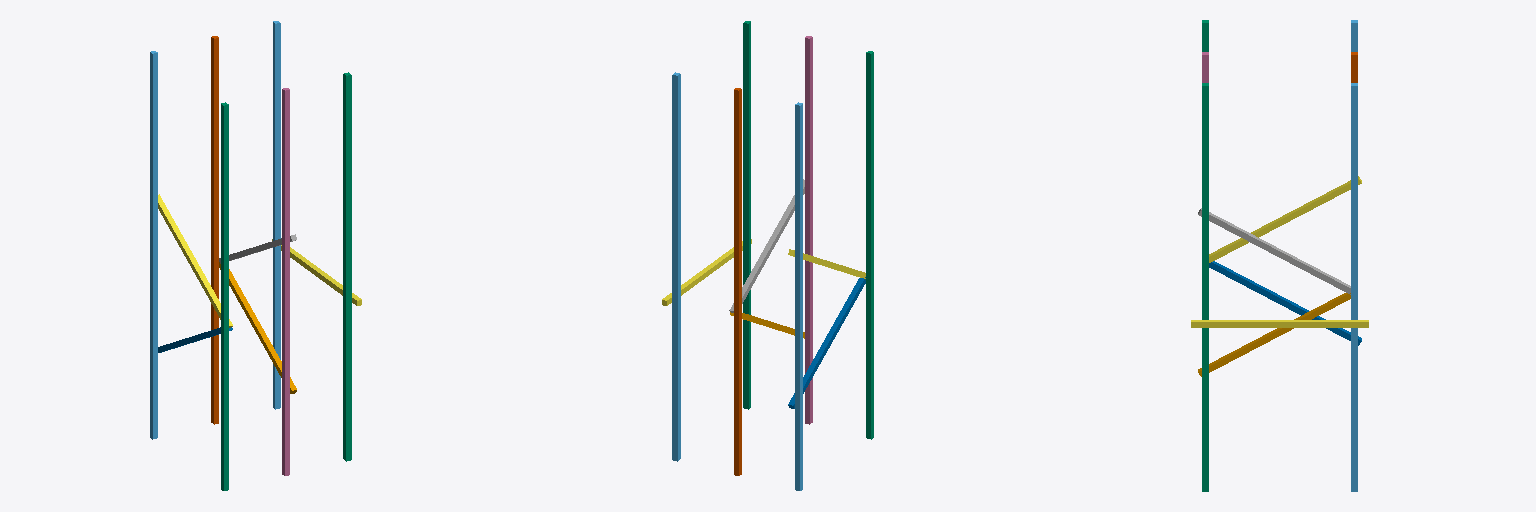
robot.urdf — gates:
<robot name="gates">
   <material name="Brown">
     <color rgba="83./255. 53./255. 10./255."/>
   </material>
   <material name="White">
     <color rgba="1 1 1"/>
   </material>
   <material name="Grey">
     <color rgba=".3 .3 .3"/>
   </material>
   <material name="Red">
     <color rgba="1 0 0"/>
   </material>
   <link name="world"/>

   <link name="v1">
   	<inertial>
   		<mass value=".5" />
   		<origin xyz="0 0 1.5" rpy="0 0 0"/>
		  <inertia ixx="10"  ixy="0"  ixz="0" iyy="10" iyz="0" izz="1" />
   	</inertial>
  	<visual>
      <origin xyz="0 0 1.5" rpy="0 0 0" />
      <geometry>
        <box size="0.042 0.042 3"/>
      </geometry>
      <material name="White"/>
    </visual>
    <collision>
      <origin xyz="0 0 1.5" rpy="0 0 0" />
      <geometry>
        <box size="0.042 0.042 3"/>
      </geometry>
    </collision>
   </link>
   <joint name="v1_weld" type="fixed">
    <parent link="world"/>
      <child link="v1"/>
    <origin xyz="-.5 .5 0" rpy="0 0 0" />
   </joint>
   <link name="v2">
   	<inertial>
   		<mass value=".5" />
   		<origin xyz="0 0 1.5" rpy="0 0 0"/>
		  <inertia ixx="10"  ixy="0"  ixz="0" iyy="10" iyz="0" izz="1" />
   	</inertial>
  	<visual>
      <origin xyz="0 0 1.5" rpy="0 0 0" />
      <geometry>
        <box size="0.042 0.042 3"/>
      </geometry>
      <material name="White"/>
    </visual>
    <collision>
      <origin xyz="0 0 1.5" rpy="0 0 0" />
      <geometry>
        <box size="0.042 0.042 3"/>
      </geometry>
    </collision>
   </link>
   <joint name="v2_weld" type="fixed">
    <parent link="world"/>
      <child link="v2"/>
    <origin xyz="-.5 -.5 0" rpy="0 0 0" />
   </joint>
   <link name="d1">
   	<inertial>
   		<mass value=".5" />
   		<origin xyz="0 0 .6" rpy="0 0 0"/>
		  <inertia ixx="5"  ixy="0"  ixz="0" iyy="5" iyz="0" izz="1" />
   	</inertial>
  	<visual>
      <origin xyz="0 0 0.6" rpy="0 0 0" />
      <geometry>
        <box size="0.042 0.042 1.2"/>
      </geometry>
      <material name="White"/>
    </visual>
    <collision>
      <origin xyz="0 0 0.6" rpy="0 0 0" />
      <geometry>
        <box size="0.042 0.042 1.2"/>
      </geometry>
    </collision>
   </link>
   <joint name="d1_weld" type="fixed">
    <parent link="v2"/>
      <child link="d1"/>
    <origin xyz="0.042 0 1.25" rpy="-1.047197551196598 0 0" />
   </joint>
   <link name="d2">
   	<inertial>
   		<mass value=".5" />
   		<origin xyz="0 0 .6" rpy="0 0 0"/>
		  <inertia ixx="5"  ixy="0"  ixz="0" iyy="5" iyz="0" izz="1" />
   	</inertial>
  	<visual>
      <origin xyz="0 0 0.6" rpy="0 0 0" />
      <geometry>
        <box size="0.042 0.042 1.2"/>
      </geometry>
      <material name="White"/>
    </visual>
    <collision>
      <origin xyz="0 0 0.6" rpy="0 0 0" />
      <geometry>
        <box size="0.042 0.042 1.2"/>
      </geometry>
    </collision>
   </link>
   <joint name="d2_weld" type="fixed">
    <parent link="v2"/>
      <child link="d2"/>
    <origin xyz="0.042 0 1.25" rpy="-2.094395102393196 0 0" />
   </joint>

   <link name="v3">
   	<inertial>
   		<mass value=".5" />
   		<origin xyz="0 0 1.5" rpy="0 0 0"/>
		  <inertia ixx="10"  ixy="0"  ixz="0" iyy="10" iyz="0" izz="1" />
   	</inertial>
  	<visual>
      <origin xyz="0 0 1.5" rpy="0 0 0" />
      <geometry>
        <box size="0.042 0.042 3"/>
      </geometry>
      <material name="White"/>
    </visual>
    <collision>
      <origin xyz="0 0 1.5" rpy="0 0 0" />
      <geometry>
        <box size="0.042 0.042 3"/>
      </geometry>
    </collision>
   </link>
   <joint name="v3_weld" type="fixed">
    <parent link="world"/>
      <child link="v3"/>
    <origin xyz="0 .5 0" rpy="0 0 0" />
   </joint>
   <link name="v4">
   	<inertial>
   		<mass value=".5" />
   		<origin xyz="0 0 1.5" rpy="0 0 0"/>
		  <inertia ixx="10"  ixy="0"  ixz="0" iyy="10" iyz="0" izz="1" />
   	</inertial>
  	<visual>
      <origin xyz="0 0 1.5" rpy="0 0 0" />
      <geometry>
        <box size="0.042 0.042 3"/>
      </geometry>
      <material name="White"/>
    </visual>
    <collision>
      <origin xyz="0 0 1.5" rpy="0 0 0" />
      <geometry>
        <box size="0.042 0.042 3"/>
      </geometry>
    </collision>
   </link>
   <joint name="v4_weld" type="fixed">
    <parent link="world"/>
      <child link="v4"/>
    <origin xyz="0 -.5 0" rpy="0 0 0" />
   </joint>
  <link name="d3">
   	<inertial>
   		<mass value=".5" />
   		<origin xyz="0 0 .6" rpy="0 0 0"/>
		  <inertia ixx="5"  ixy="0"  ixz="0" iyy="5" iyz="0" izz="1" />
   	</inertial>
  	<visual>
      <origin xyz="0 0 0.6" rpy="0 0 0" />
      <geometry>
        <box size="0.042 0.042 1.2"/>
      </geometry>
      <material name="White"/>
    </visual>
    <collision>
      <origin xyz="0 0 0.6" rpy="0 0 0" />
      <geometry>
        <box size="0.042 0.042 1.2"/>
      </geometry>
    </collision>
   </link>
   <joint name="d3_weld" type="fixed">
    <parent link="v3"/>
      <child link="d3"/>
    <origin xyz="0.042 0 1.25" rpy="1.047197551196598 0 0" />
   </joint>
  <link name="d4">
   	<inertial>
   		<mass value=".5" />
   		<origin xyz="0 0 .6" rpy="0 0 0"/>
		  <inertia ixx="5"  ixy="0"  ixz="0" iyy="5" iyz="0" izz="1" />
   	</inertial>
  	<visual>
      <origin xyz="0 0 0.6" rpy="0 0 0" />
      <geometry>
        <box size="0.042 0.042 1.2"/>
      </geometry>
      <material name="White"/>
    </visual>
    <collision>
      <origin xyz="0 0 0.6" rpy="0 0 0" />
      <geometry>
        <box size="0.042 0.042 1.2"/>
      </geometry>
    </collision>
   </link>
   <joint name="d4_weld" type="fixed">
    <parent link="v3"/>
      <child link="d4"/>
    <origin xyz="0.042 0 1.25" rpy="2.094395102393196 0 0" />
   </joint>

   <link name="v5">
   	<inertial>
   		<mass value=".5" />
   		<origin xyz="0 0 1.5" rpy="0 0 0"/>
		  <inertia ixx="10"  ixy="0"  ixz="0" iyy="10" iyz="0" izz="1" />
   	</inertial>
  	<visual>
      <origin xyz="0 0 1.5" rpy="0 0 0" />
      <geometry>
        <box size="0.042 0.042 3"/>
      </geometry>
      <material name="White"/>
    </visual>
    <collision>
      <origin xyz="0 0 1.5" rpy="0 0 0" />
      <geometry>
        <box size="0.042 0.042 3"/>
      </geometry>
    </collision>
   </link>
   <joint name="v5_weld" type="fixed">
    <parent link="world"/>
      <child link="v5"/>
    <origin xyz=".5 .5 0" rpy="0 0 0" />
   </joint>
   <link name="v6">
   	<inertial>
   		<mass value=".5" />
   		<origin xyz="0 0 1.5" rpy="0 0 0"/>
		  <inertia ixx="10"  ixy="0"  ixz="0" iyy="10" iyz="0" izz="1" />
   	</inertial>
  	<visual>
      <origin xyz="0 0 1.5" rpy="0 0 0" />
      <geometry>
        <box size="0.042 0.042 3"/>
      </geometry>
      <material name="White"/>
    </visual>
    <collision>
      <origin xyz="0 0 1.5" rpy="0 0 0" />
      <geometry>
        <box size="0.042 0.042 3"/>
      </geometry>
    </collision>
   </link>
   <joint name="v6_weld" type="fixed">
    <parent link="world"/>
      <child link="v6"/>
    <origin xyz=".5 -.5 0" rpy="0 0 0" />
   </joint>
  <link name="h1">
   	<inertial>
   		<mass value=".5" />
   		<origin xyz="0 0 0.6" rpy="0 0 0"/>
		  <inertia ixx="5"  ixy="0"  ixz="0" iyy="5" iyz="0" izz="1" />
   	</inertial>
  	<visual>
      <origin xyz="0 0 .6" rpy="0 0 0" />
      <geometry>
        <box size="0.042 0.042 1.2"/>
      </geometry>
      <material name="White"/>
    </visual>
    <collision>
      <origin xyz="0 0 .6" rpy="0 0 0" />
      <geometry>
        <box size="0.042 0.042 1.2"/>
      </geometry>
    </collision>
   </link>
   <joint name="h1_weld" type="fixed">
    <parent link="v5"/>
      <child link="h1"/>
    <origin xyz="0.042 .1 1.25" rpy="1.570796326794897 0 0" />
   </joint>

</robot>

--- Render facts (derived) ---
Views: 3 orthographic renders of the robot side by side, from view 1: azimuth 30°, elevation 25°; view 2: azimuth 150°, elevation 25°; view 3: azimuth 270°, elevation 25°.
Model gates with 12 links and 11 joints (11 fixed), rooted at world, posed every joint at zero.
Visible links, largest first — view 1: v6, v2, v1, v4, v5, v3, d1, d4, h1; view 2: v5, v1, v2, v3, v4, v6, d2, d3, h1; view 3: v5, v6, h1, d3, d1, d4, d2.
Link boxes in pixels (x1=…): v6: x1=343, y1=72, x2=351, y2=461; v2: x1=221, y1=102, x2=228, y2=490; v1: x1=150, y1=51, x2=157, y2=439; v4: x1=282, y1=88, x2=289, y2=475; v5: x1=273, y1=21, x2=280, y2=409; v3: x1=211, y1=36, x2=218, y2=424; d1: x1=158, y1=194, x2=232, y2=327; d4: x1=219, y1=262, x2=296, y2=393; h1: x1=272, y1=239, x2=361, y2=305; v5: x1=672, y1=72, x2=680, y2=461; v1: x1=795, y1=102, x2=802, y2=490; v2: x1=866, y1=51, x2=873, y2=439; v3: x1=734, y1=88, x2=741, y2=475; v4: x1=805, y1=36, x2=812, y2=424; v6: x1=743, y1=21, x2=750, y2=409; d2: x1=788, y1=277, x2=865, y2=408; d3: x1=729, y1=179, x2=804, y2=312; h1: x1=662, y1=239, x2=751, y2=305; v5: x1=1351, y1=83, x2=1357, y2=491; v6: x1=1202, y1=83, x2=1208, y2=491; h1: x1=1191, y1=320, x2=1368, y2=327; d3: x1=1198, y1=208, x2=1350, y2=294; d1: x1=1209, y1=176, x2=1361, y2=262; d4: x1=1198, y1=293, x2=1350, y2=376; d2: x1=1209, y1=261, x2=1361, y2=345.
Bounding box of the posed robot: 1.08 × 1.2 × 3 m (x, y, z).
Geometry: primitives only (box / cylinder / sphere), no mesh files.
